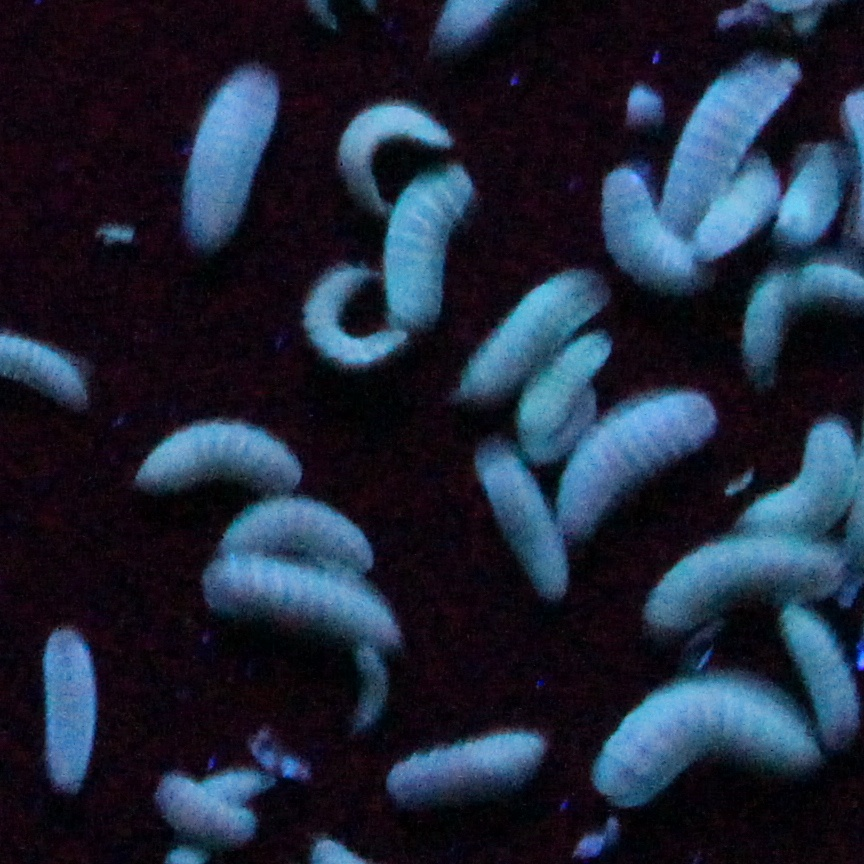larve: (589, 682, 815, 808), (660, 66, 804, 233), (560, 391, 711, 537), (462, 271, 611, 406), (184, 57, 282, 257), (644, 540, 842, 631), (200, 553, 393, 644), (595, 164, 718, 291), (335, 97, 458, 215), (475, 435, 564, 595), (738, 422, 860, 537), (142, 422, 309, 504), (389, 168, 466, 340), (775, 604, 860, 744), (384, 733, 546, 806), (304, 264, 406, 364), (44, 626, 100, 795), (155, 768, 269, 851), (698, 160, 784, 257), (775, 146, 851, 246), (358, 646, 391, 731), (202, 768, 274, 804)
